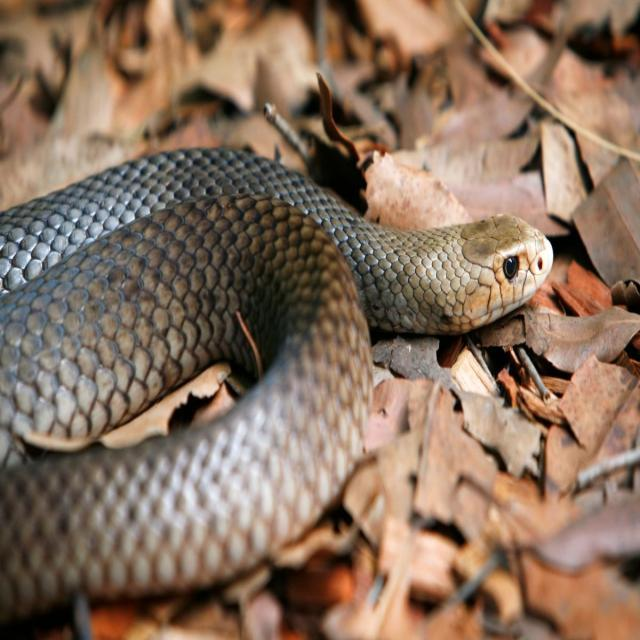Snake: (0, 116, 587, 612)
